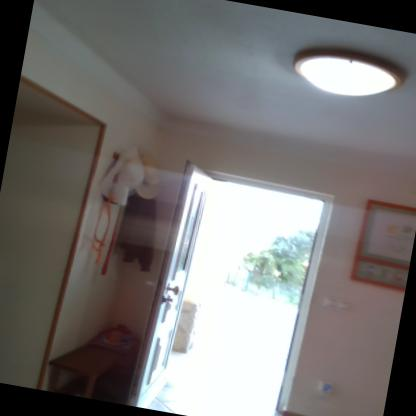closed: (0, 78, 121, 395)
open: (131, 161, 350, 415)
